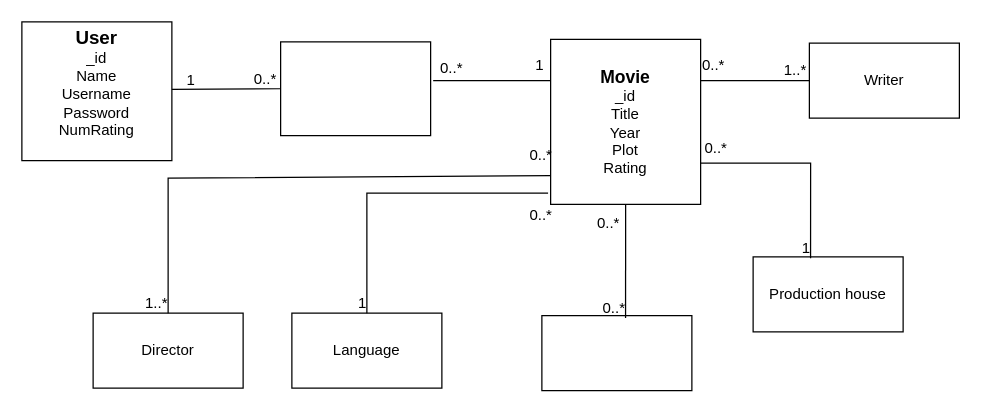
The diagram is 981 pixels wide and 413 high, and some of its shapes have lost their labels. Here are the shapes that lost their labels. From the top down, the centre of each, then its label:
(x=355, y=88): Vote Rate
(x=616, y=352): Actor
